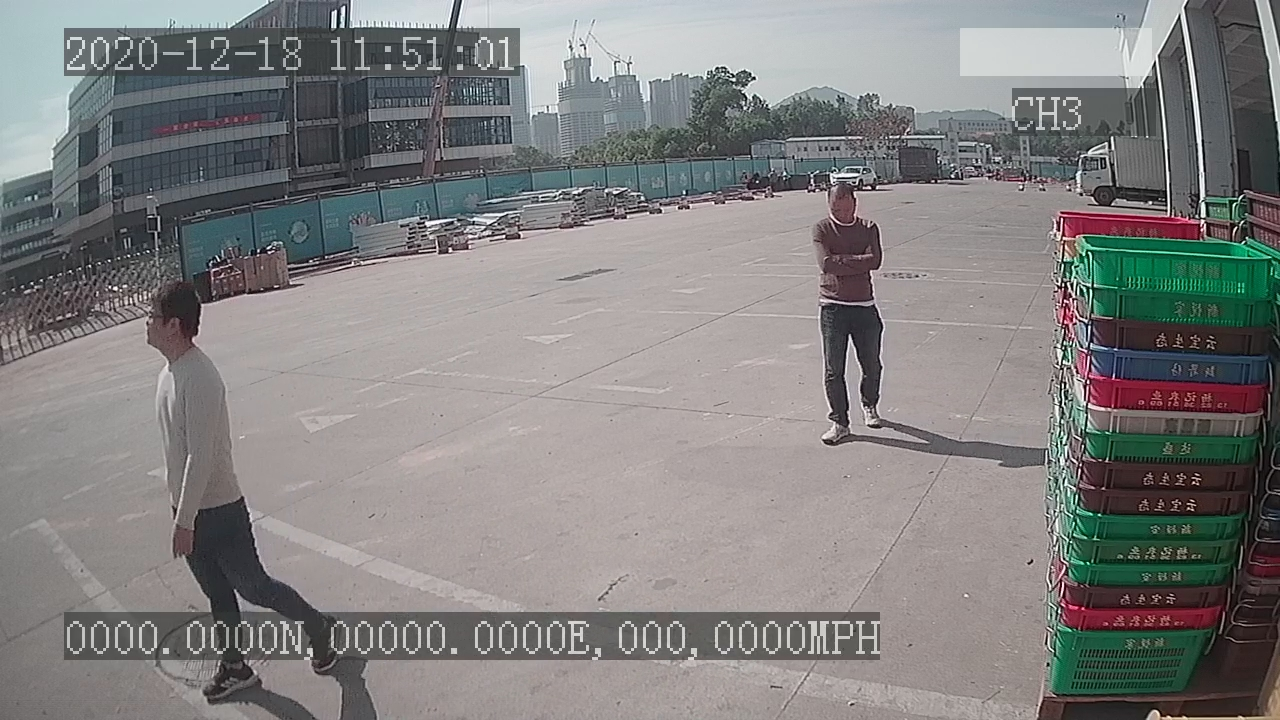person: (809, 177, 893, 452)
